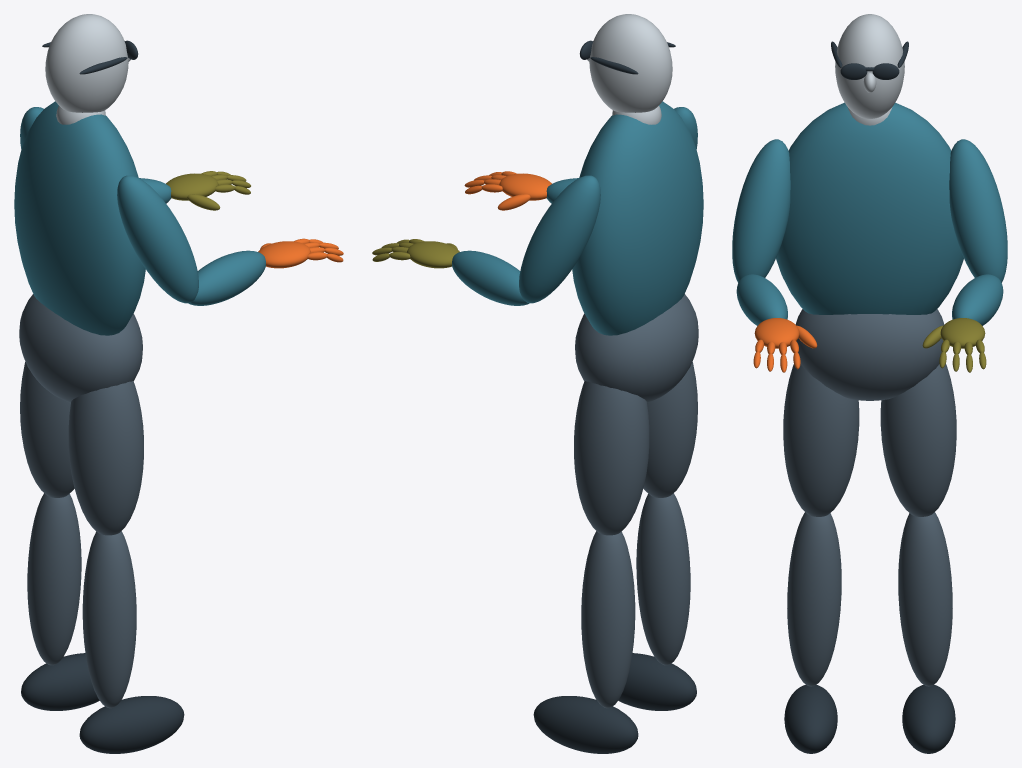
Rendered from human-dex5.glb.
3 renders of one model, left to right at view 1: azimuth 30°, elevation 25°; view 2: azimuth 150°, elevation 25°; view 3: azimuth 270°, elevation 25°, orthographic.
Visible parts, largest first — view 1: Human.torso.web, Human.right.thigh.web, Human.pelvis.web, Human.right.shin.web, Human.left.shin.web, Human.head.web, Human.right.upperarm.web, Human.left.thigh.web, Human.right.shoe.web, Human.left.shoe.web, Human.right.forearm.web, Human.right.palm.web (+1 smaller); view 2: Human.torso.web, Human.left.thigh.web, Human.pelvis.web, Human.left.shin.web, Human.right.shin.web, Human.head.web, Human.left.upperarm.web, Human.right.thigh.web, Human.left.shoe.web, Human.right.shoe.web, Human.left.forearm.web, Human.left.palm.web (+1 smaller); view 3: Human.torso.web, Human.pelvis.web, Human.left.thigh.web, Human.right.thigh.web, Human.right.shin.web, Human.left.shin.web, Human.left.upperarm.web, Human.right.upperarm.web, Human.head.web, Human.right.shoe.web, Human.left.shoe.web, Human.left.forearm.web (+3 smaller).
Boxes of the visible parts, x1,y1,x2,y2 form: Human.torso.web: [14, 101, 145, 335]; Human.right.thigh.web: [68, 381, 143, 535]; Human.pelvis.web: [19, 294, 142, 402]; Human.right.shin.web: [82, 531, 136, 708]; Human.left.shin.web: [27, 493, 81, 665]; Human.head.web: [45, 14, 128, 112]; Human.right.upperarm.web: [117, 175, 198, 303]; Human.left.thigh.web: [20, 362, 74, 497]; Human.right.shoe.web: [79, 696, 184, 753]; Human.left.shoe.web: [21, 653, 99, 710]; Human.right.forearm.web: [188, 250, 265, 305]; Human.right.palm.web: [258, 241, 310, 268]; Human.torso.web: [572, 101, 703, 335]; Human.left.thigh.web: [574, 381, 649, 535]; Human.pelvis.web: [575, 294, 698, 402]; Human.left.shin.web: [581, 531, 635, 708]; Human.right.shin.web: [636, 493, 690, 665]; Human.head.web: [589, 14, 672, 112]; Human.left.upperarm.web: [519, 175, 600, 303]; Human.right.thigh.web: [643, 362, 697, 497]; Human.left.shoe.web: [533, 696, 638, 753]; Human.right.shoe.web: [618, 653, 696, 710]; Human.left.forearm.web: [452, 250, 529, 305]; Human.left.palm.web: [407, 241, 459, 268]; Human.torso.web: [776, 102, 963, 314]; Human.pelvis.web: [795, 309, 944, 400]; Human.left.thigh.web: [880, 364, 956, 516]; Human.right.thigh.web: [783, 364, 859, 516]; Human.right.shin.web: [787, 512, 841, 686]; Human.left.shin.web: [898, 512, 952, 686]; Human.left.upperarm.web: [949, 139, 1007, 282]; Human.right.upperarm.web: [732, 139, 790, 282]; Human.head.web: [835, 14, 904, 118]; Human.right.shoe.web: [784, 684, 837, 753]; Human.left.shoe.web: [902, 684, 955, 753]; Human.left.forearm.web: [952, 274, 1003, 325].
Size of the model in its own units: 0.6749 by 1.75 by 0.6084.
